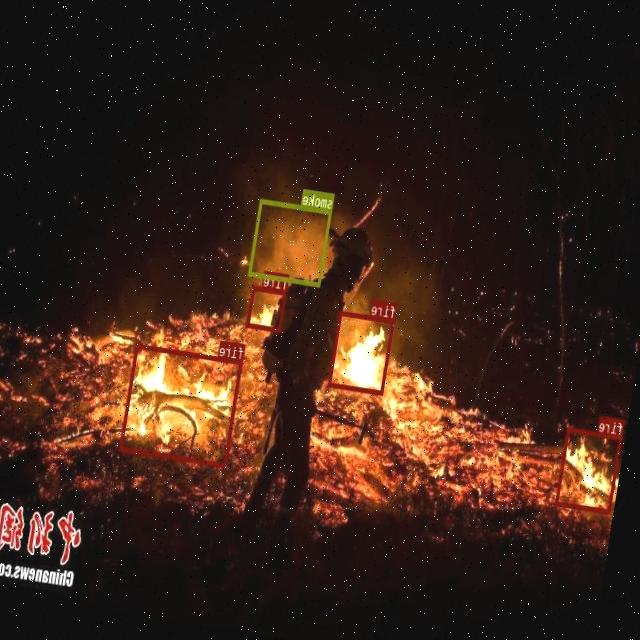fire: (120, 343, 244, 467), (556, 428, 624, 514), (328, 310, 396, 395), (247, 285, 288, 332)
smoke: (248, 199, 332, 287)
